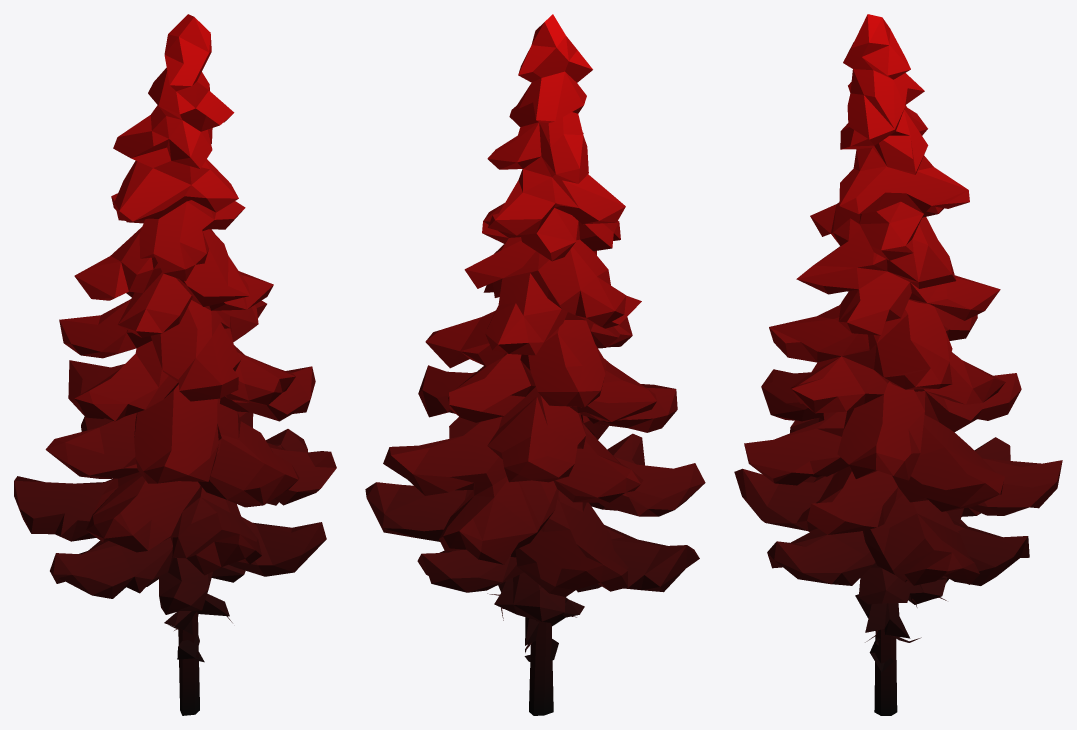
The model's file is TreeSpruce07_Snow.fbx.
3 views of the same model, side by side, from view 1: azimuth 30°, elevation 25°; view 2: azimuth 150°, elevation 25°; view 3: azimuth 270°, elevation 25° (orthographic).
Visible parts, largest first — view 1: TreeSpruce07_Snow_LOD0; view 2: TreeSpruce07_Snow_LOD0; view 3: TreeSpruce07_Snow_LOD0.
Part boxes in pixels (x1,y1,x2,y2): TreeSpruce07_Snow_LOD0: (14, 14, 336, 715); TreeSpruce07_Snow_LOD0: (365, 14, 705, 715); TreeSpruce07_Snow_LOD0: (734, 14, 1062, 715).
Size of what is drawn, in the model's own units: 173 by 395 by 169.
